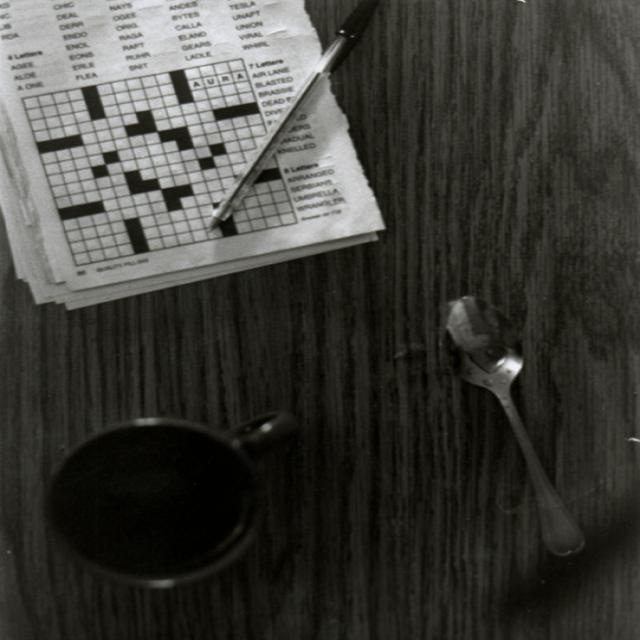Cup: (46, 392, 289, 624)
Table: (0, 5, 638, 640)
